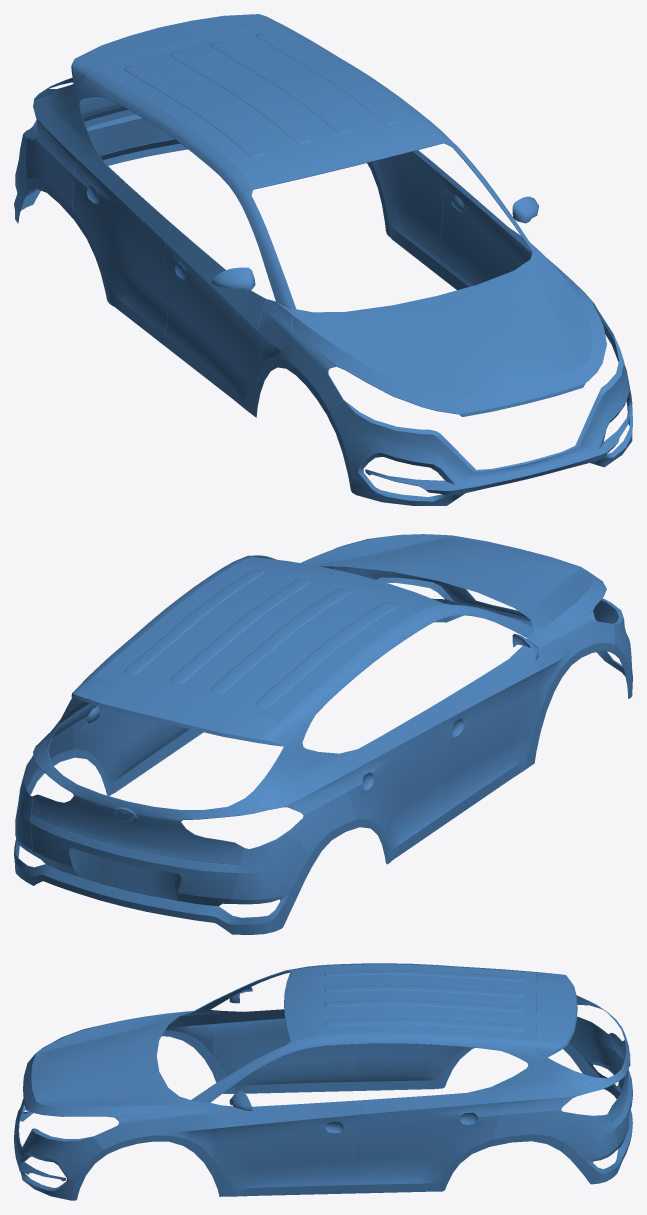
Rendered from color.gltf.
3 renders of one model, top to bottom at view 1: azimuth 30°, elevation 25°; view 2: azimuth 150°, elevation 25°; view 3: azimuth 270°, elevation 25°, orthographic. The views are drawn at different scales.
Visible parts, largest first — view 1: tucson-15_exterior_varnish_0; view 2: tucson-15_exterior_varnish_0; view 3: tucson-15_exterior_varnish_0.
Boxes of the visible parts, x1,y1,x2,y2 form: tucson-15_exterior_varnish_0: [14, 14, 632, 505]; tucson-15_exterior_varnish_0: [14, 534, 632, 934]; tucson-15_exterior_varnish_0: [14, 963, 632, 1200].
Bounding box in the file's own units: 208 × 126 × 453.
